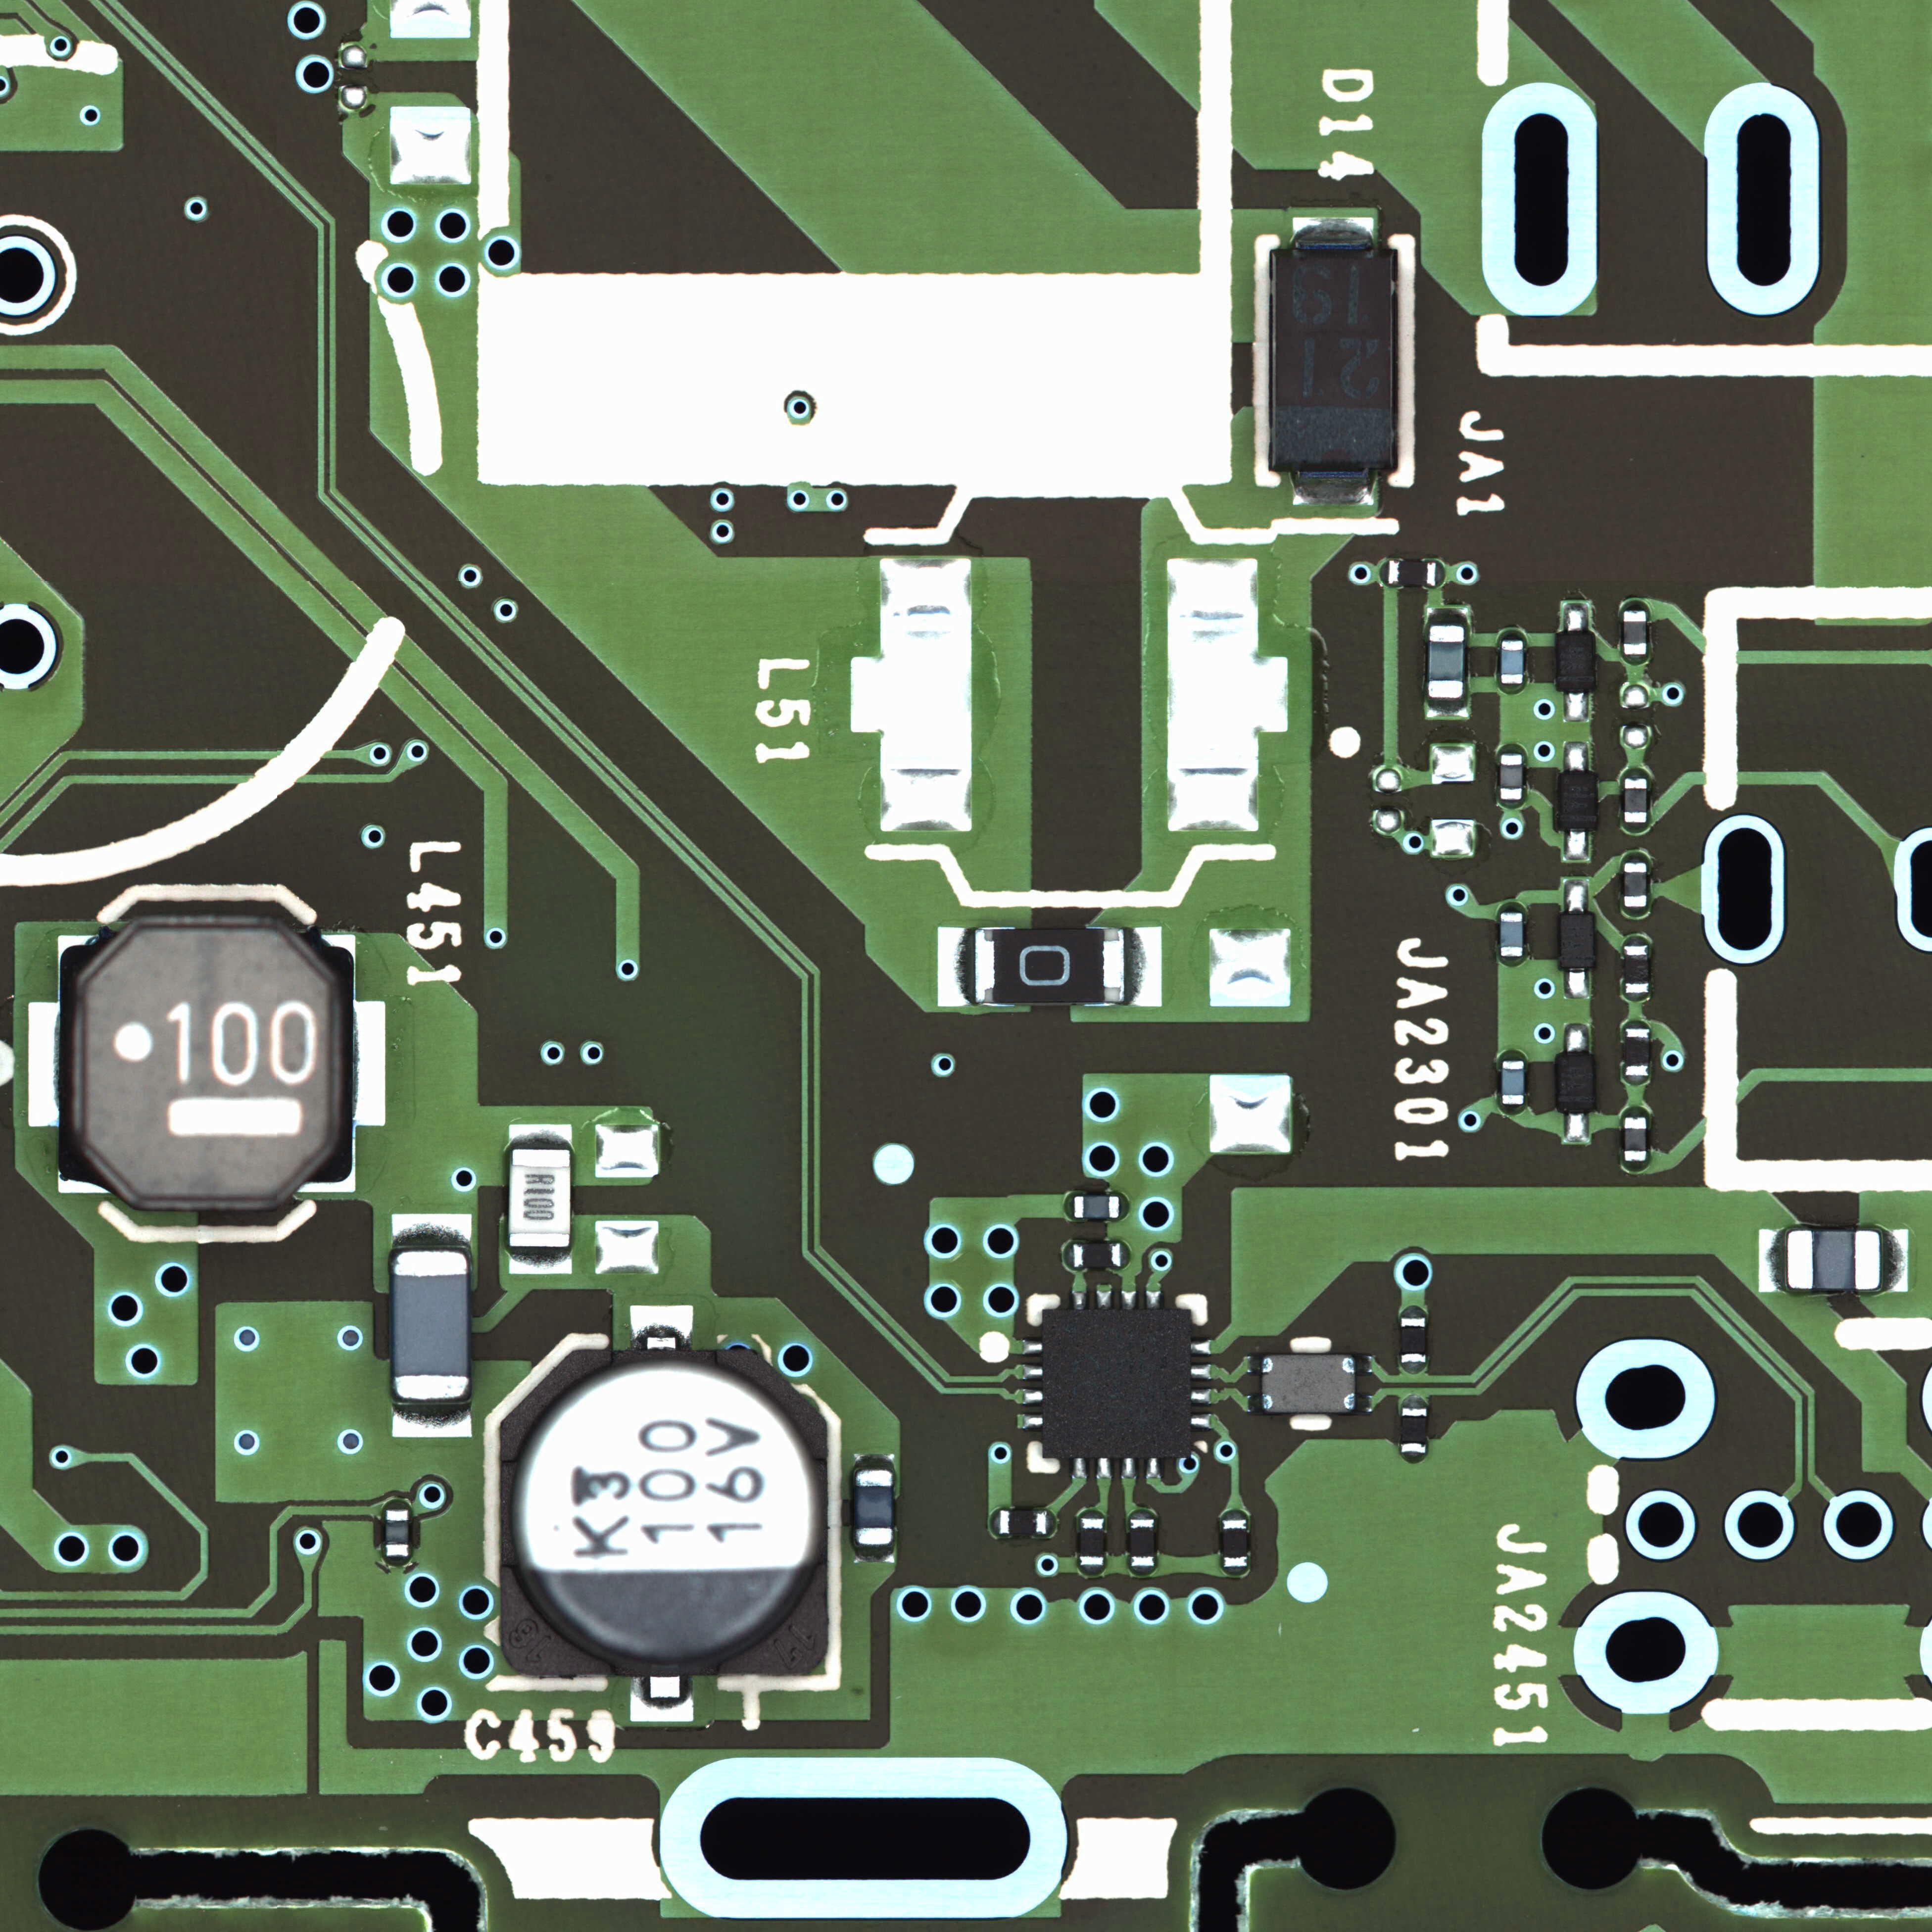Package: (501, 1350, 826, 1675), (60, 920, 352, 1212), (1272, 249, 1396, 469), (1044, 1307, 1191, 1458), (975, 929, 1125, 1005), (393, 1251, 469, 1398), (510, 1148, 570, 1247), (1787, 1230, 1881, 1290), (1428, 626, 1465, 697), (856, 1470, 892, 1545), (1557, 632, 1596, 690), (1557, 1054, 1596, 1111), (1559, 773, 1598, 828), (1559, 913, 1594, 968), (1131, 1518, 1155, 1566), (1401, 1408, 1428, 1453), (1401, 1316, 1426, 1362), (1223, 1520, 1247, 1566), (1624, 1028, 1649, 1074), (1389, 561, 1435, 586), (1624, 945, 1647, 993), (1081, 1518, 1104, 1564), (1000, 1511, 1046, 1534), (1074, 1244, 1120, 1267), (386, 1511, 409, 1555), (1624, 778, 1647, 823), (1624, 862, 1645, 908), (1500, 754, 1522, 800), (1624, 1116, 1645, 1161), (1502, 1060, 1523, 1104), (1624, 610, 1645, 655), (1502, 640, 1523, 683), (1076, 1196, 1118, 1217), (1500, 913, 1522, 955)
Solder: (356, 1001, 386, 1125), (27, 1003, 57, 1127), (393, 1399, 469, 1437), (630, 1306, 694, 1350), (1125, 927, 1161, 1005), (632, 1677, 694, 1721), (1293, 472, 1373, 506), (1292, 216, 1375, 248), (393, 1215, 471, 1249), (939, 929, 973, 1005), (1881, 1228, 1907, 1292), (1760, 1228, 1787, 1292), (508, 1251, 571, 1276), (510, 1125, 570, 1148), (1564, 1021, 1591, 1053), (1564, 879, 1589, 913), (1562, 741, 1589, 771), (1564, 602, 1591, 632), (1428, 697, 1467, 717), (1562, 1113, 1589, 1141), (1564, 692, 1589, 722), (1564, 830, 1589, 860), (1564, 970, 1589, 998), (855, 1453, 893, 1470), (1430, 607, 1467, 625), (853, 1545, 893, 1560), (1399, 1453, 1428, 1465), (1191, 1338, 1210, 1355), (1021, 1339, 1042, 1355), (1399, 1362, 1426, 1375), (1500, 1047, 1525, 1060), (1023, 1389, 1044, 1403), (1023, 1414, 1044, 1428), (1624, 1161, 1647, 1173), (1401, 1396, 1428, 1407), (1131, 1566, 1157, 1576), (1122, 1458, 1136, 1477), (1145, 1458, 1159, 1477), (1072, 1458, 1086, 1477), (1097, 1458, 1111, 1477), (1023, 1364, 1042, 1378), (1191, 1364, 1210, 1378), (1191, 1389, 1210, 1403), (1191, 1414, 1210, 1428), (1122, 1290, 1136, 1309), (1146, 1290, 1161, 1309), (1097, 1290, 1111, 1309), (1624, 1076, 1649, 1086), (1622, 908, 1647, 918), (1622, 1106, 1647, 1116), (1500, 1104, 1525, 1115), (1622, 851, 1647, 862), (1624, 823, 1649, 833), (1223, 1507, 1247, 1518), (1624, 1017, 1649, 1028), (1378, 559, 1389, 584), (1401, 1306, 1426, 1316), (989, 1509, 1000, 1534), (1624, 993, 1649, 1003), (1499, 901, 1523, 911), (1624, 655, 1647, 665), (1500, 683, 1523, 694), (1624, 934, 1647, 945), (386, 1557, 409, 1568), (386, 1499, 409, 1509), (1500, 743, 1523, 754), (1624, 768, 1647, 778), (1063, 1194, 1074, 1217), (1224, 1568, 1247, 1578), (1500, 628, 1523, 639), (1129, 1509, 1155, 1518), (1072, 1292, 1086, 1307), (1120, 1194, 1129, 1219), (1122, 1242, 1131, 1267), (1437, 561, 1445, 586), (1081, 1509, 1106, 1518), (1063, 1244, 1072, 1269), (1081, 1566, 1106, 1575), (1500, 957, 1523, 966), (1047, 1511, 1056, 1534), (1622, 600, 1645, 609), (1500, 800, 1522, 809)
